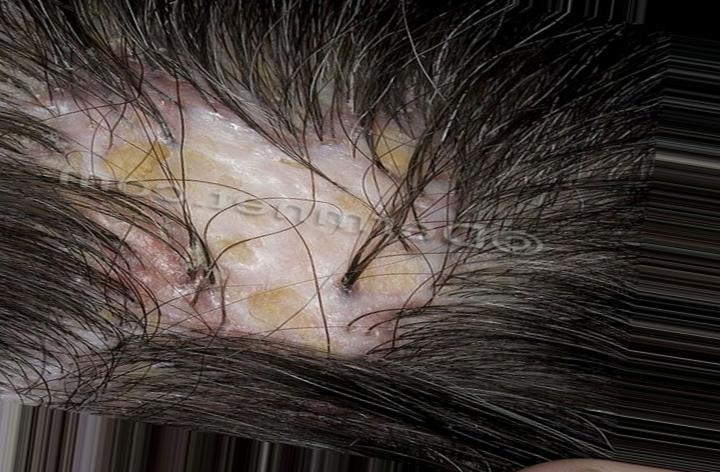Folliculitis: (88, 106, 454, 360)
